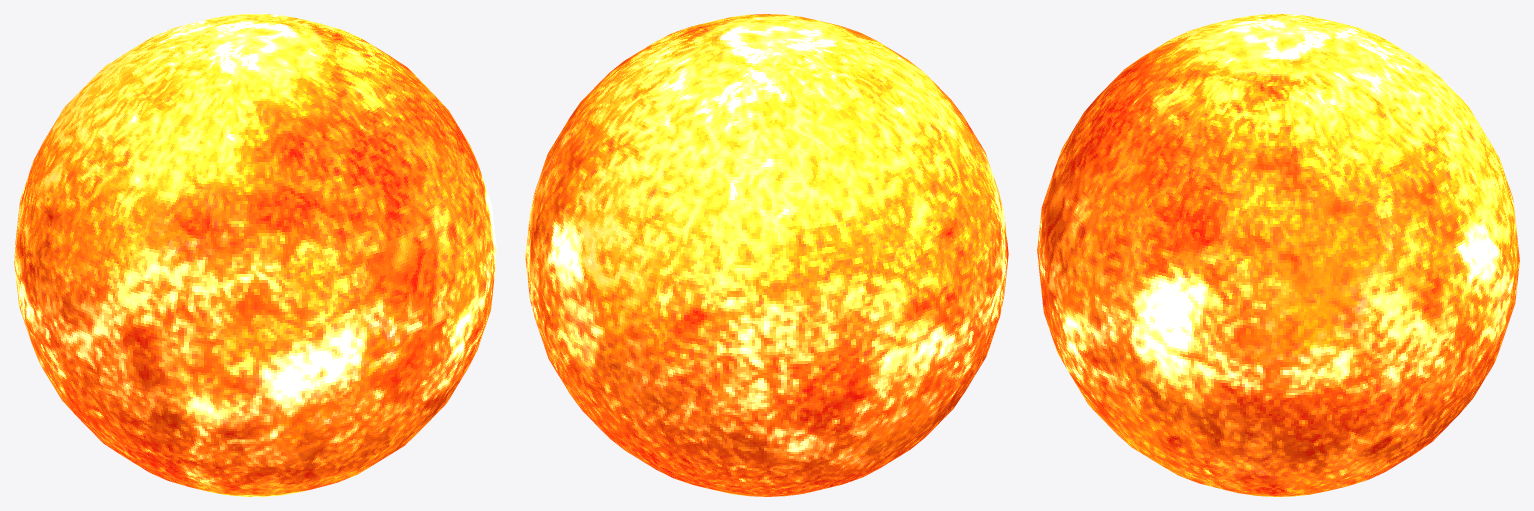
Rendered from Sun.glb.
3 views of the same model, side by side, from view 1: azimuth 30°, elevation 25°; view 2: azimuth 150°, elevation 25°; view 3: azimuth 270°, elevation 25° (orthographic).
Visible parts, largest first — view 1: 00_sun; view 2: 00_sun; view 3: 00_sun.
Boxes of the visible parts, x1=… form: 00_sun: x1=14, y1=14, x2=496, y2=496; 00_sun: x1=525, y1=14, x2=1008, y2=496; 00_sun: x1=1037, y1=14, x2=1519, y2=496.
Bounding box in the file's own units: 177 × 177 × 177.
Materials: 1 (1 with a texture image).
